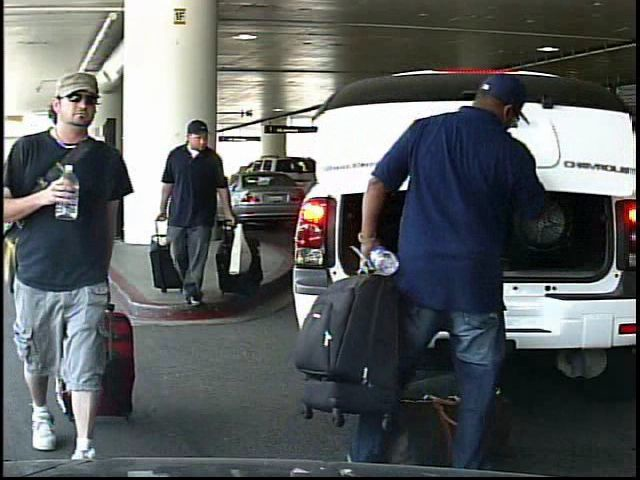person: (352, 74, 540, 476), (4, 65, 162, 477), (156, 114, 253, 310)
